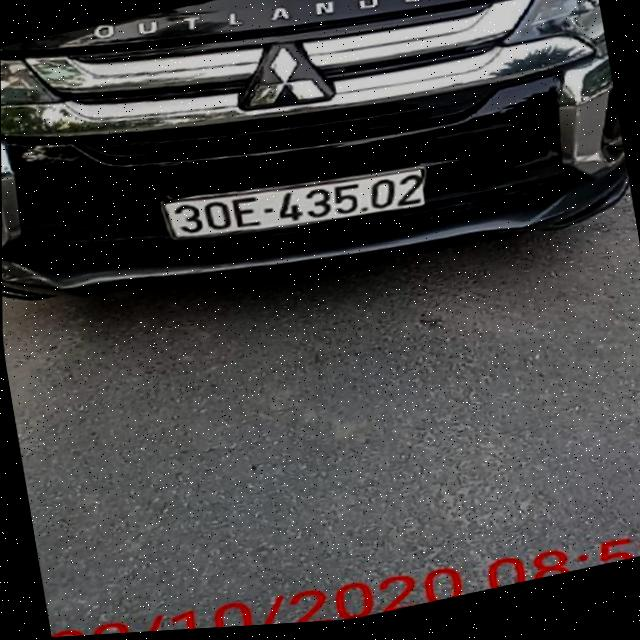car: (0, 0, 635, 346)
plate: (160, 142, 434, 267)
